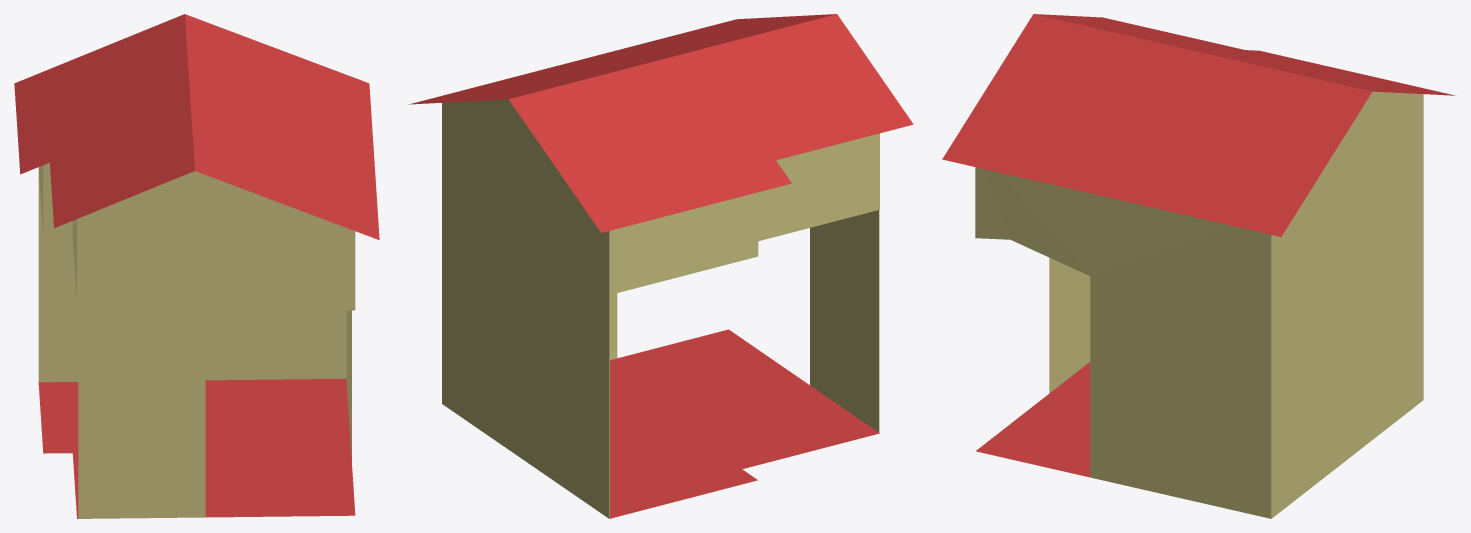
3 renders of one model, left to right at view 1: azimuth 30°, elevation 25°; view 2: azimuth 150°, elevation 25°; view 3: azimuth 270°, elevation 25°, orthographic. The views are drawn at different scales.
Visible parts, largest first — view 1: group_5, group_3, group_6, group_4; view 2: group_5, group_3, group_6, group_4; view 3: group_5, group_3, group_6, group_4.
Boxes of the visible parts, <box> form: group_5: <box>38,162,355,518</box>; group_3: <box>14,14,379,240</box>; group_6: <box>38,378,355,518</box>; group_4: <box>20,14,369,174</box>; group_5: <box>442,99,879,518</box>; group_3: <box>420,14,913,232</box>; group_6: <box>610,329,879,518</box>; group_4: <box>409,14,833,191</box>; group_5: <box>975,91,1423,518</box>; group_3: <box>942,14,1454,236</box>; group_6: <box>976,362,1090,477</box>; group_4: <box>1034,14,1371,236</box>.
Bounding box in the file's own units: 14.69 × 15.73 × 12.48.
